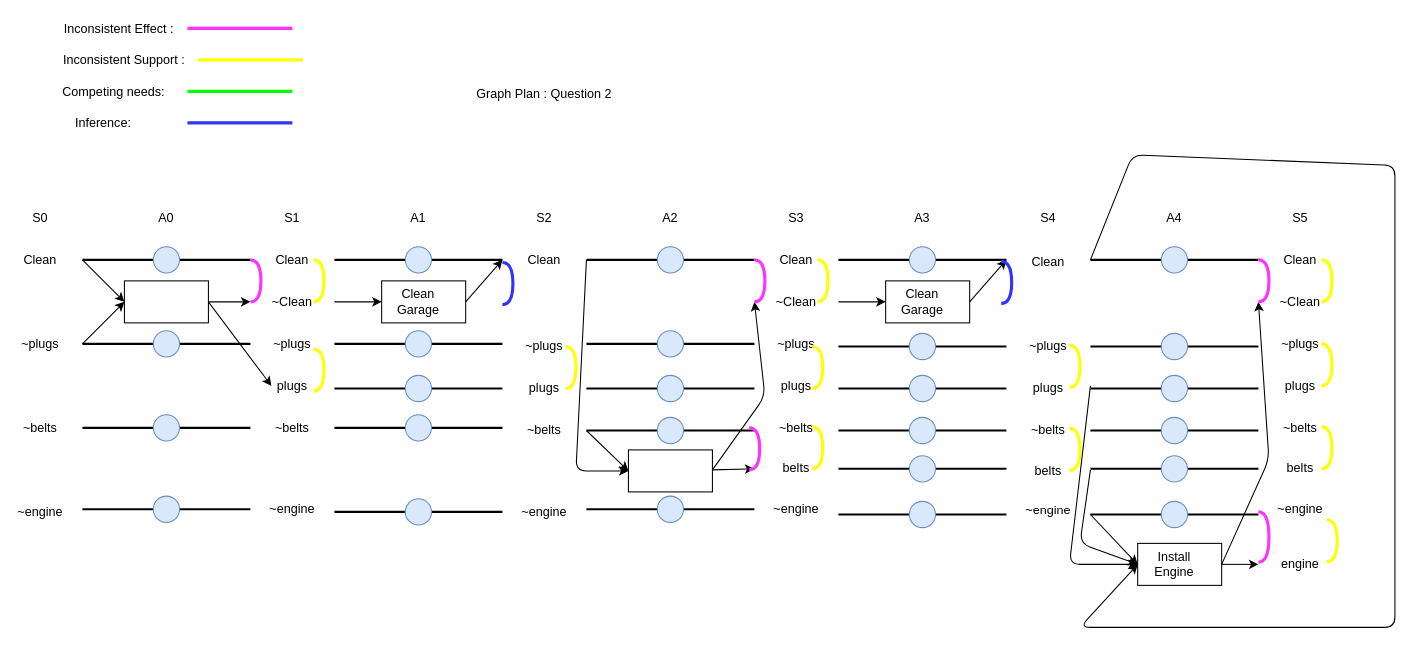
Some shapes in this 1422 by 654 pixel diagram are drawn without their labels. The shapes that lost their labels are listed below. From the top down, each one's centre as x and y in pixels, then its label:
At pixel 165 301: "Add Plug".
At pixel 669 470: "Add Belt".
